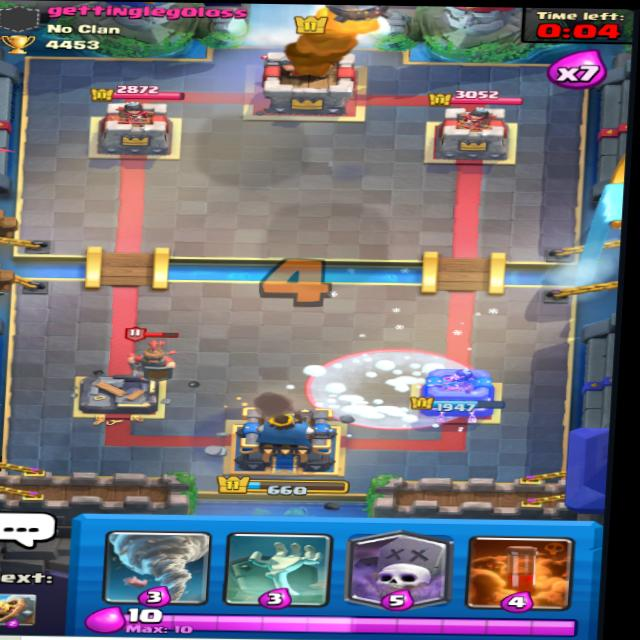freeze: (307, 345, 474, 432)
rocket: (310, 5, 395, 27)
royal-recruits: (117, 320, 194, 384)
